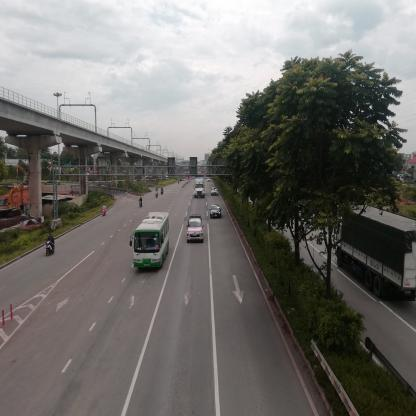bus: (133, 214, 170, 272)
car: (189, 215, 205, 245), (212, 205, 222, 218), (212, 188, 220, 197)
container: (194, 179, 206, 199)
motorbike: (46, 234, 56, 258), (103, 204, 108, 216), (139, 198, 143, 208), (156, 188, 159, 200), (161, 187, 165, 196)
truck: (338, 207, 416, 303)
